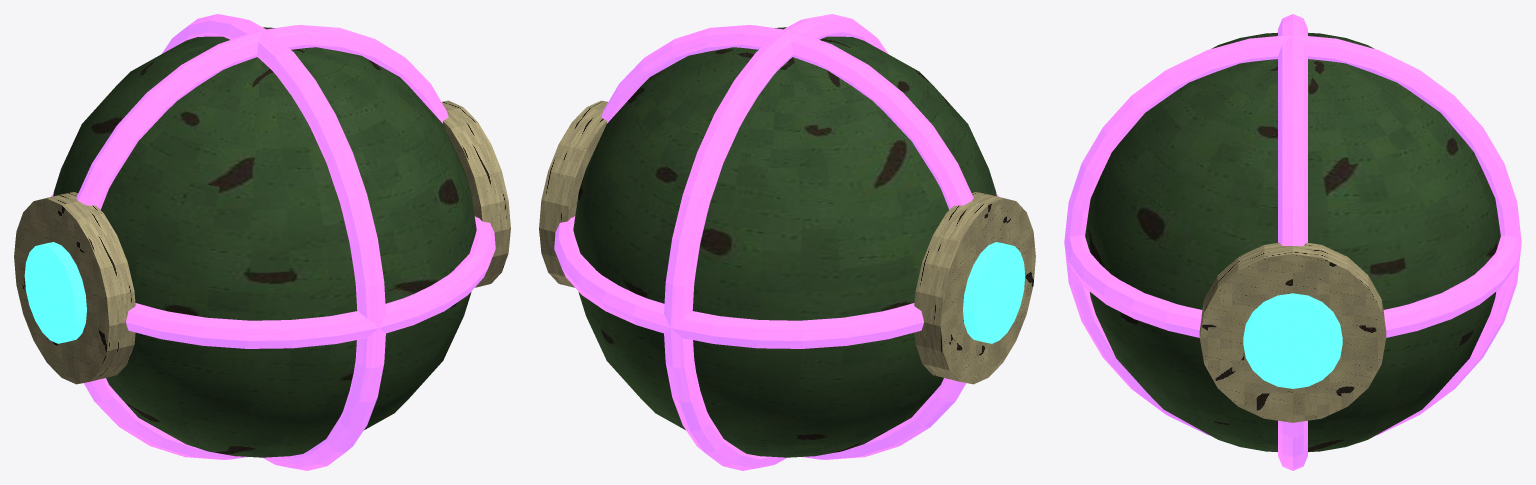
Rendered from eq-gravityorb.glb.
3 renders of one model, left to right at view 1: azimuth 30°, elevation 25°; view 2: azimuth 150°, elevation 25°; view 3: azimuth 270°, elevation 25°, orthographic. The views are drawn at different scales.
Visible parts, largest first — view 1: Shell, Field seam, Field seam.001, End cap, Field seam.002, End cap.001, Lens; view 2: Shell, Field seam, Field seam.001, End cap, Field seam.002, End cap.001, Lens; view 3: Shell, End cap.001, Field seam, Field seam.002, Field seam.001, Lens.001.
Boxes of the visible parts, x1=… form: Shell: x1=53, y1=27, x2=476, y2=457; Field seam: x1=162, y1=14, x2=385, y2=470; Field seam.001: x1=76, y1=25, x2=448, y2=459; End cap: x1=14, y1=192, x2=135, y2=384; Field seam.002: x1=51, y1=194, x2=495, y2=348; End cap.001: x1=441, y1=100, x2=510, y2=287; Lens: x1=24, y1=242, x2=86, y2=343; Shell: x1=573, y1=27, x2=996, y2=457; Field seam: x1=664, y1=14, x2=887, y2=470; Field seam.001: x1=601, y1=25, x2=973, y2=459; End cap: x1=914, y1=192, x2=1035, y2=384; Field seam.002: x1=554, y1=194, x2=998, y2=348; End cap.001: x1=539, y1=100, x2=608, y2=287; Lens: x1=963, y1=242, x2=1025, y2=343; Shell: x1=1085, y1=32, x2=1500, y2=452; End cap.001: x1=1199, y1=242, x2=1386, y2=422; Field seam: x1=1064, y1=35, x2=1521, y2=435; Field seam.002: x1=1064, y1=235, x2=1521, y2=337; Field seam.001: x1=1278, y1=14, x2=1307, y2=470; Lens.001: x1=1243, y1=293, x2=1342, y2=388.
Size of the model in its own units: 0.386 by 0.368 by 0.368.
4 materials, 4 textured.
